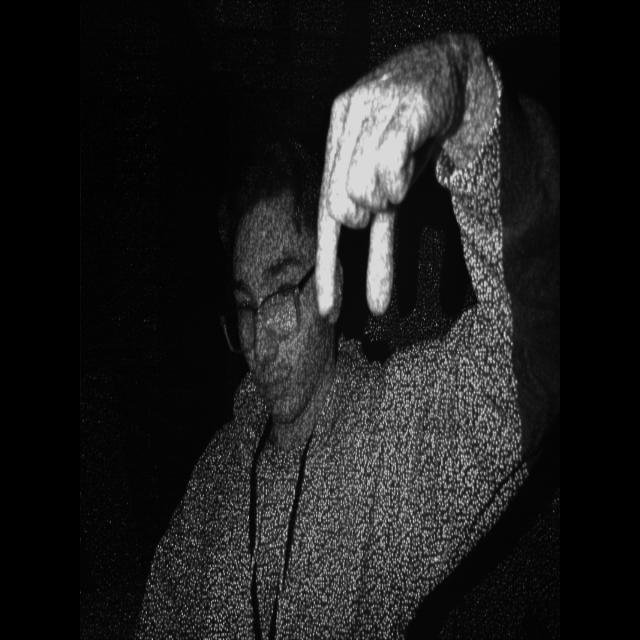Q: (307, 24, 485, 326)
